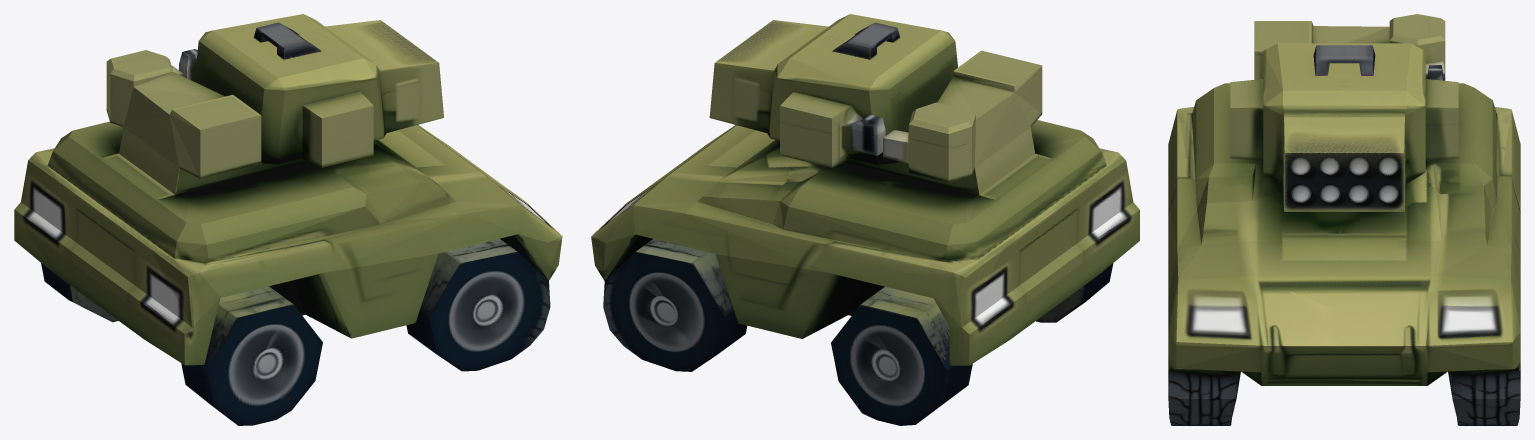
The model's file is LightTank.glb.
3 renders of one model, left to right at view 1: azimuth 30°, elevation 25°; view 2: azimuth 150°, elevation 25°; view 3: azimuth 270°, elevation 25°, orthographic.
Parts seen in each view (by area): view 1: tripo_node_9aa239b4-88e2-4fa6-a528-115b5b56bbe0; view 2: tripo_node_9aa239b4-88e2-4fa6-a528-115b5b56bbe0; view 3: tripo_node_9aa239b4-88e2-4fa6-a528-115b5b56bbe0.
Part boxes in pixels (left/top/right/bottom): tripo_node_9aa239b4-88e2-4fa6-a528-115b5b56bbe0: left=14, top=14, right=562, bottom=425; tripo_node_9aa239b4-88e2-4fa6-a528-115b5b56bbe0: left=591, top=14, right=1139, bottom=425; tripo_node_9aa239b4-88e2-4fa6-a528-115b5b56bbe0: left=1168, top=14, right=1520, bottom=425.
Bounding box in the file's own units: 0.998 × 0.7363 × 0.7676.
1 material, 1 textured.
